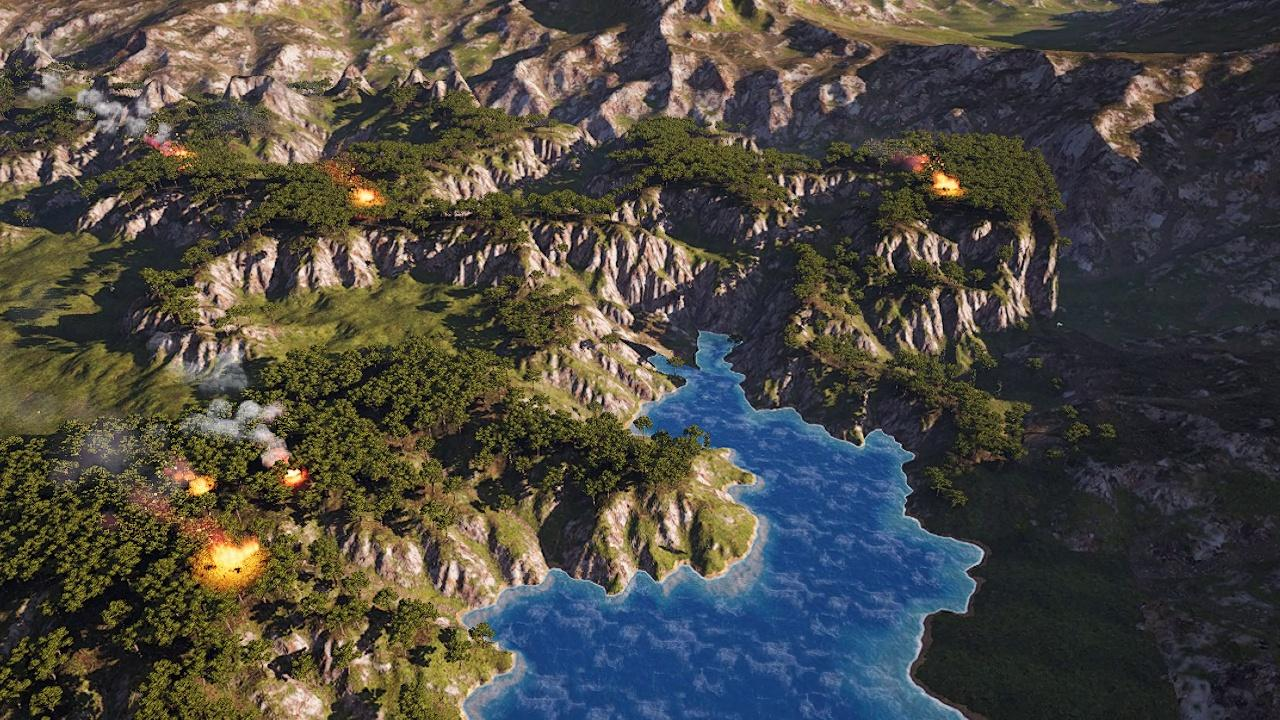fire: (208, 540, 258, 576), (164, 143, 195, 166), (931, 173, 959, 193), (281, 467, 307, 487), (189, 474, 215, 494), (354, 189, 376, 205)
smoke: (188, 348, 295, 467), (21, 74, 167, 152), (893, 148, 932, 172)
